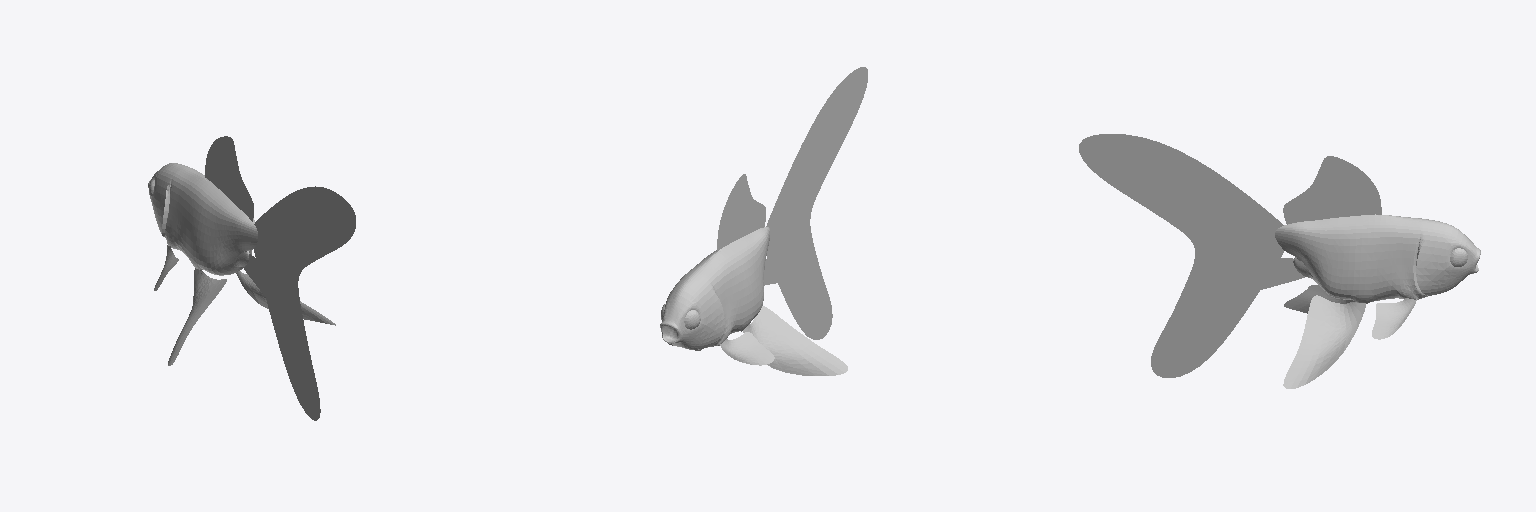
The model's file is Goldfish_001_low.obj.
The picture shows the model from 3 angles: view 1: azimuth 30°, elevation 25°; view 2: azimuth 150°, elevation 25°; view 3: azimuth 270°, elevation 25°; orthographic projection.
Parts seen in each view (by area): view 1: Plane.003; view 2: Plane.003; view 3: Plane.003.
Boxes of the visible parts, x1=… form: Plane.003: x1=148, y1=136, x2=355, y2=420; Plane.003: x1=660, y1=67, x2=867, y2=375; Plane.003: x1=1079, y1=134, x2=1480, y2=388.
Bounding box in the file's own units: 3.42 × 4.81 × 7.15.